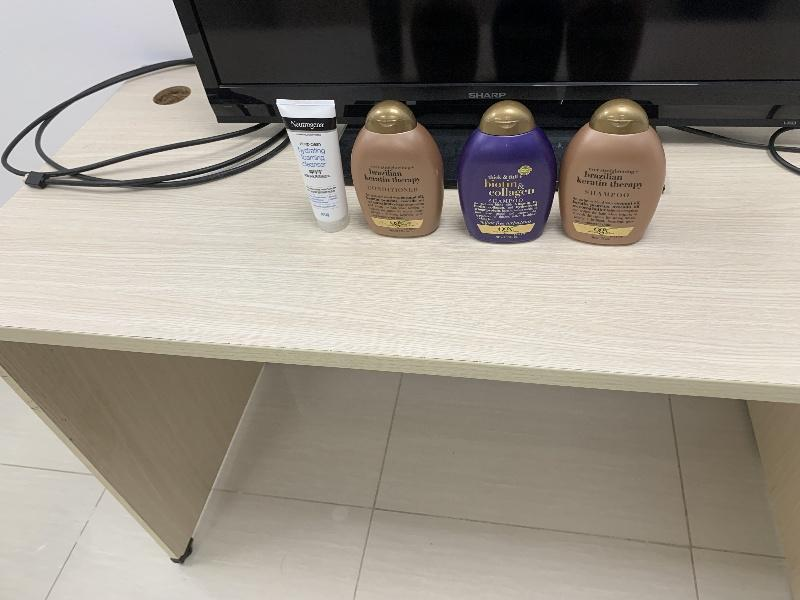BiotinCollagen_Shampoo: (458, 100, 557, 244)
BrazilianKeratinTherapy_Shampoo: (559, 98, 666, 246)
BrazilianKerationTherapy_Conditioner: (351, 99, 444, 238)
HydratingFoamingCleanser: (276, 98, 350, 233)
